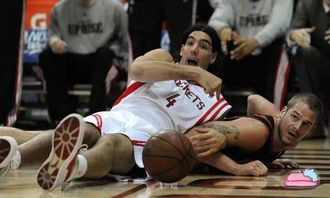fall: (29, 10, 299, 190)
